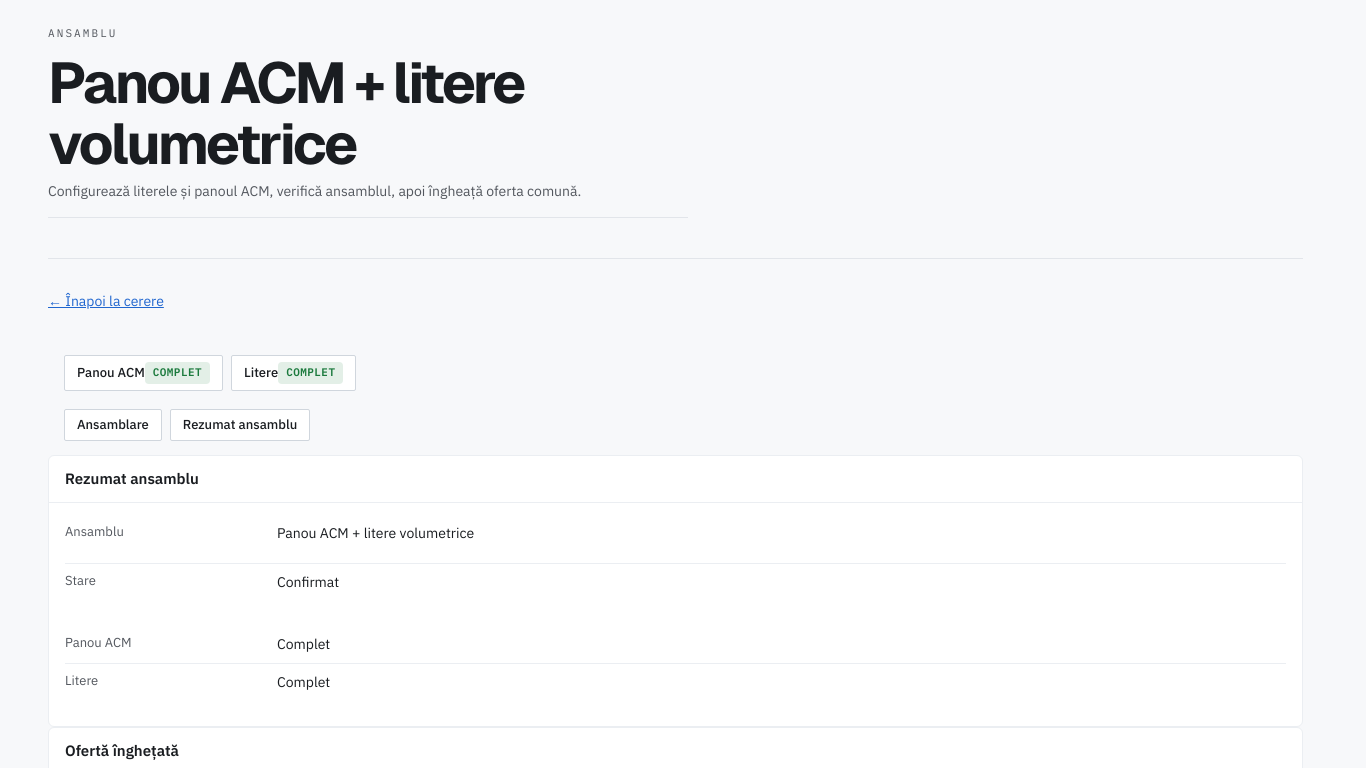
Test: AssemblyPage › shows the frozen quote with Romanian amounts, honest PARTIAL production cost and consult-only members after an order
Expected: the button "Accept" is not shown
Click the button "Panou ACM Complet" at (144, 373), box [64,351,223,395]
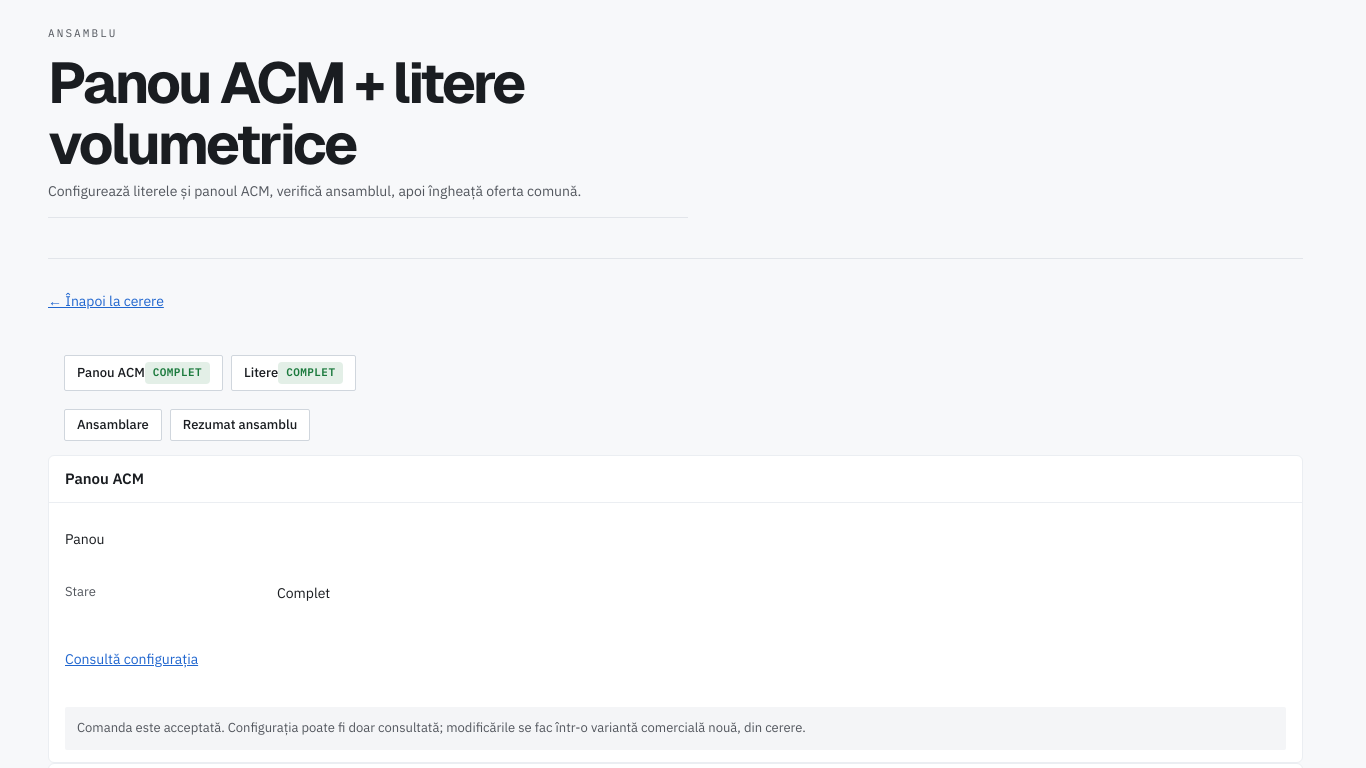
Expected: the link "Consultă configurația" is shown, [65,650,198,668]
